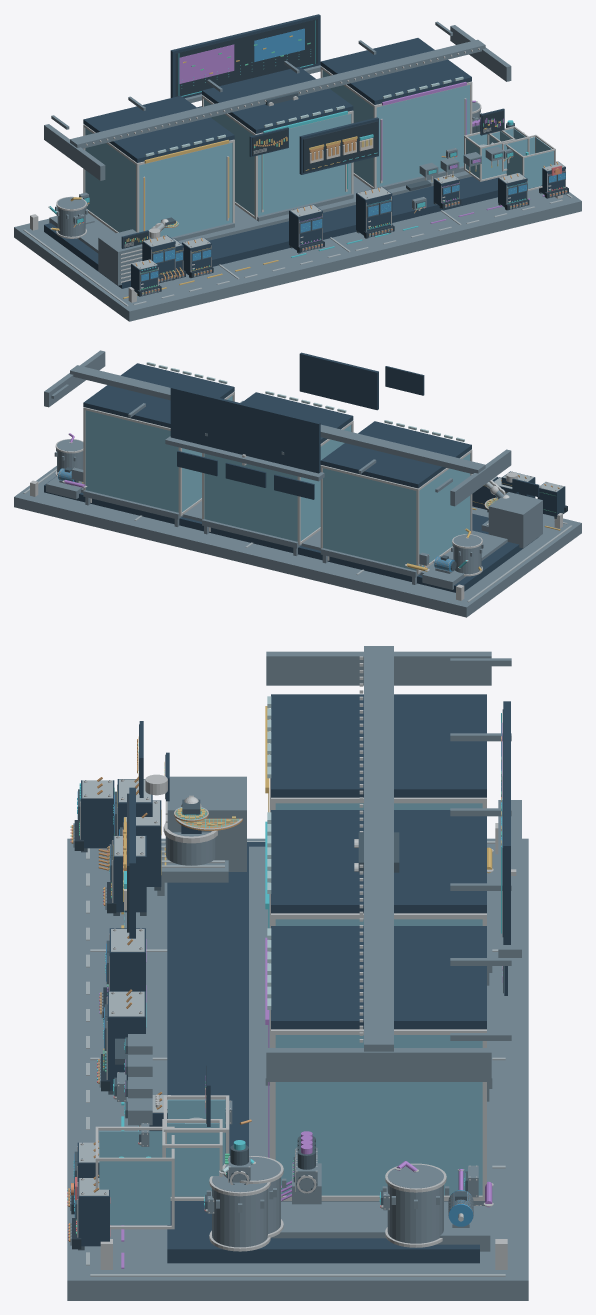
Rendered from Level77_Complete_ArtKit_Showcase.glb.
The picture shows the model from 3 angles, top to bottom: view 1: azimuth 30°, elevation 25°; view 2: azimuth 150°, elevation 25°; view 3: azimuth 270°, elevation 25°; orthographic projection. The views are drawn at different scales.
Visible parts, largest first — view 1: Level77_Complete_ArtKit_Showcase_Node_0000, Level77_Complete_ArtKit_Showcase_Node_0111, Level77_Complete_ArtKit_Showcase_Node_0169, Level77_Complete_ArtKit_Showcase_Node_0006, Level77_Complete_ArtKit_Showcase_Node_1336, Level77_Complete_ArtKit_Showcase_Node_0140, Level77_Complete_ArtKit_Showcase_Node_0172, Level77_Complete_ArtKit_Showcase_Node_0114, Level77_Complete_ArtKit_Showcase_Node_0143, Level77_Complete_ArtKit_Showcase_Node_3341, Level77_Complete_ArtKit_Showcase_Node_0112, Level77_Complete_ArtKit_Showcase_Node_0007 (+24 smaller); view 2: Level77_Complete_ArtKit_Showcase_Node_0000, Level77_Complete_ArtKit_Showcase_Node_3340, Level77_Complete_ArtKit_Showcase_Node_0110, Level77_Complete_ArtKit_Showcase_Node_0168, Level77_Complete_ArtKit_Showcase_Node_0139, Level77_Complete_ArtKit_Showcase_Node_0114, Level77_Complete_ArtKit_Showcase_Node_0172, Level77_Complete_ArtKit_Showcase_Node_1336, Level77_Complete_ArtKit_Showcase_Node_0006, Level77_Complete_ArtKit_Showcase_Node_0112, Level77_Complete_ArtKit_Showcase_Node_0461, Level77_Complete_ArtKit_Showcase_Node_0191 (+20 smaller); view 3: Level77_Complete_ArtKit_Showcase_Node_0000, Level77_Complete_ArtKit_Showcase_Node_0006, Level77_Complete_ArtKit_Showcase_Node_0171, Level77_Complete_ArtKit_Showcase_Node_0114, Level77_Complete_ArtKit_Showcase_Node_0172, Level77_Complete_ArtKit_Showcase_Node_0143, Level77_Complete_ArtKit_Showcase_Node_1336, Level77_Complete_ArtKit_Showcase_Node_0007, Level77_Complete_ArtKit_Showcase_Node_1335, Level77_Complete_ArtKit_Showcase_Node_1334, Level77_Complete_ArtKit_Showcase_Node_0191, Level77_Complete_ArtKit_Showcase_Node_2883 (+26 smaller).
Boxes of the visible parts, x1=… form: Level77_Complete_ArtKit_Showcase_Node_0000: x1=14, y1=188, x2=581, y2=321; Level77_Complete_ArtKit_Showcase_Node_0111: x1=139, y1=142, x2=232, y2=237; Level77_Complete_ArtKit_Showcase_Node_0169: x1=376, y1=85, x2=469, y2=187; Level77_Complete_ArtKit_Showcase_Node_0006: x1=44, y1=176, x2=534, y2=288; Level77_Complete_ArtKit_Showcase_Node_1336: x1=70, y1=39, x2=485, y2=148; Level77_Complete_ArtKit_Showcase_Node_0140: x1=258, y1=114, x2=351, y2=216; Level77_Complete_ArtKit_Showcase_Node_0172: x1=320, y1=38, x2=471, y2=104; Level77_Complete_ArtKit_Showcase_Node_0114: x1=83, y1=95, x2=234, y2=162; Level77_Complete_ArtKit_Showcase_Node_0143: x1=202, y1=66, x2=353, y2=133; Level77_Complete_ArtKit_Showcase_Node_3341: x1=175, y1=19, x2=317, y2=96; Level77_Complete_ArtKit_Showcase_Node_0112: x1=85, y1=128, x2=135, y2=232; Level77_Complete_ArtKit_Showcase_Node_0007: x1=78, y1=171, x2=472, y2=253; Level77_Complete_ArtKit_Showcase_Node_0000: x1=14, y1=466, x2=581, y2=617; Level77_Complete_ArtKit_Showcase_Node_3340: x1=170, y1=386, x2=320, y2=473; Level77_Complete_ArtKit_Showcase_Node_0110: x1=323, y1=468, x2=416, y2=570; Level77_Complete_ArtKit_Showcase_Node_0168: x1=85, y1=410, x2=178, y2=512; Level77_Complete_ArtKit_Showcase_Node_0139: x1=204, y1=453, x2=297, y2=541; Level77_Complete_ArtKit_Showcase_Node_0114: x1=320, y1=421, x2=471, y2=488; Level77_Complete_ArtKit_Showcase_Node_0172: x1=83, y1=363, x2=234, y2=427; Level77_Complete_ArtKit_Showcase_Node_1336: x1=70, y1=365, x2=485, y2=473; Level77_Complete_ArtKit_Showcase_Node_0006: x1=44, y1=477, x2=538, y2=592; Level77_Complete_ArtKit_Showcase_Node_0112: x1=419, y1=453, x2=470, y2=567; Level77_Complete_ArtKit_Showcase_Node_0461: x1=299, y1=352, x2=378, y2=410; Level77_Complete_ArtKit_Showcase_Node_0191: x1=488, y1=492, x2=542, y2=548; Level77_Complete_ArtKit_Showcase_Node_0000: x1=67, y1=838, x2=528, y2=1300; Level77_Complete_ArtKit_Showcase_Node_0006: x1=167, y1=842, x2=479, y2=1263; Level77_Complete_ArtKit_Showcase_Node_0171: x1=275, y1=1035, x2=482, y2=1195; Level77_Complete_ArtKit_Showcase_Node_0114: x1=271, y1=694, x2=486, y2=797; Level77_Complete_ArtKit_Showcase_Node_0172: x1=271, y1=926, x2=486, y2=1029; Level77_Complete_ArtKit_Showcase_Node_0143: x1=271, y1=810, x2=486, y2=913; Level77_Complete_ArtKit_Showcase_Node_1336: x1=364, y1=646, x2=393, y2=1051; Level77_Complete_ArtKit_Showcase_Node_0007: x1=249, y1=846, x2=448, y2=1238; Level77_Complete_ArtKit_Showcase_Node_1335: x1=266, y1=1048, x2=491, y2=1081; Level77_Complete_ArtKit_Showcase_Node_1334: x1=266, y1=651, x2=491, y2=685; Level77_Complete_ArtKit_Showcase_Node_0191: x1=167, y1=776, x2=246, y2=871; Level77_Complete_ArtKit_Showcase_Node_2883: x1=99, y1=1161, x2=170, y2=1224.
Bounding box in the file's own units: 20.4 × 6.67 × 9.
